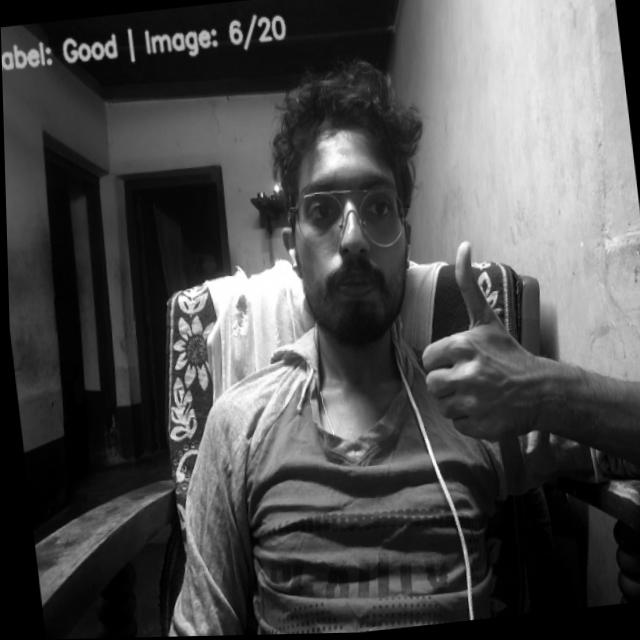Good: (402, 227, 556, 471)
